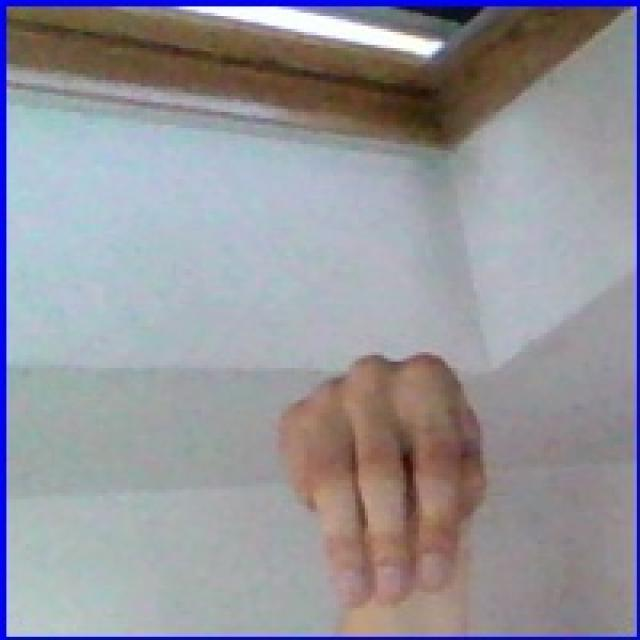Letra M: (259, 328, 509, 632)
